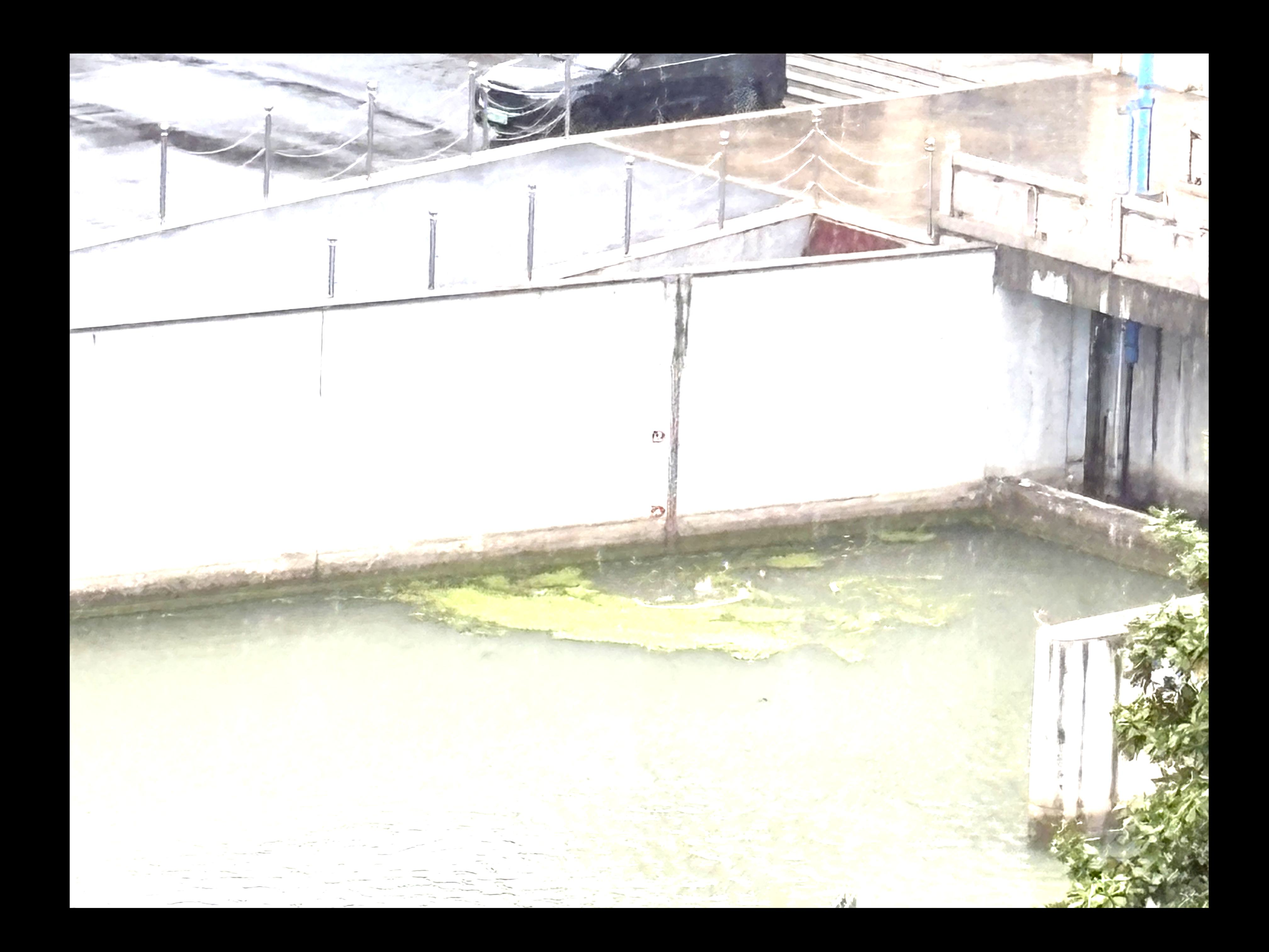Other: (413, 567, 585, 623), (586, 592, 691, 650), (691, 592, 771, 653), (812, 609, 883, 633), (760, 552, 824, 567), (876, 529, 935, 541)
Plastic wastes: (695, 581, 710, 589), (829, 583, 840, 591), (780, 640, 787, 644)
